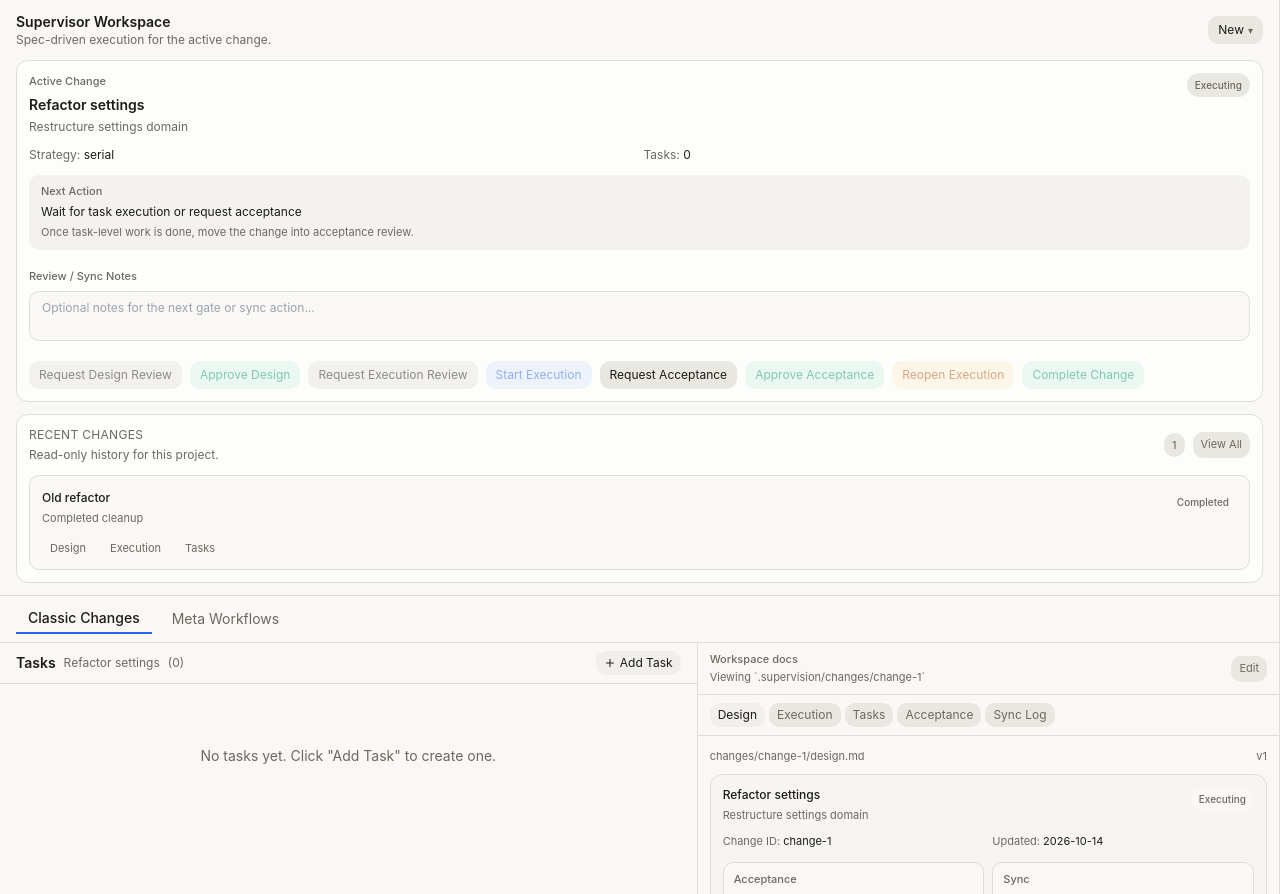
it: SupervisorWorkspacePanel › switches doc preview to a historical change
This screenshot has width=1280, height=894.
Expected: the text "Old refactor" is shown, [42,490,110,505]
Click the button with aria-label "Preview Old refactor" at (76, 497), box [42,490,1237,528]
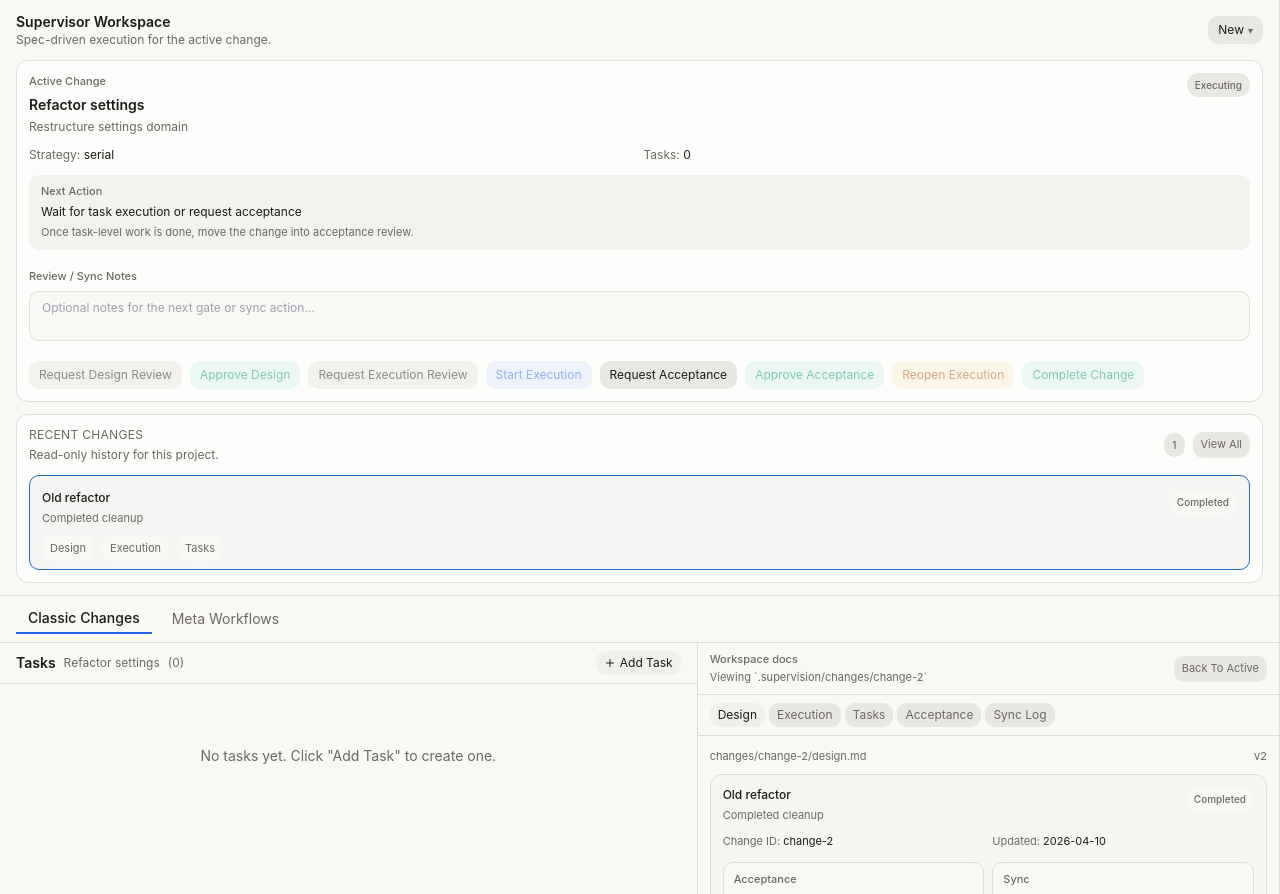
Expected: the text "Viewing `.supervision/changes/change-2`" is shown, [710,669,927,686]
Expected: the button "Back To Active" is shown, [1174,656,1267,682]
Expected: the text "change-2" is shown, [783,834,833,848]
